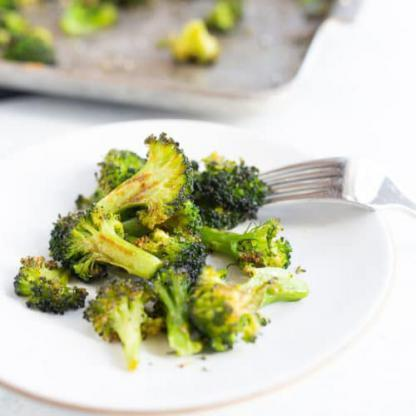broccoli: (13, 130, 309, 373)
